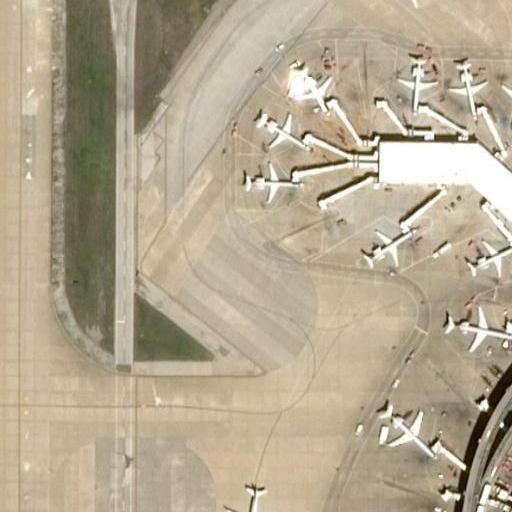Aircraft: (225, 159, 305, 203), (352, 223, 419, 271), (248, 109, 308, 155), (440, 304, 498, 350), (391, 54, 437, 111), (447, 60, 488, 121), (456, 236, 512, 278), (221, 472, 272, 512), (502, 59, 512, 134), (382, 0, 444, 9)
